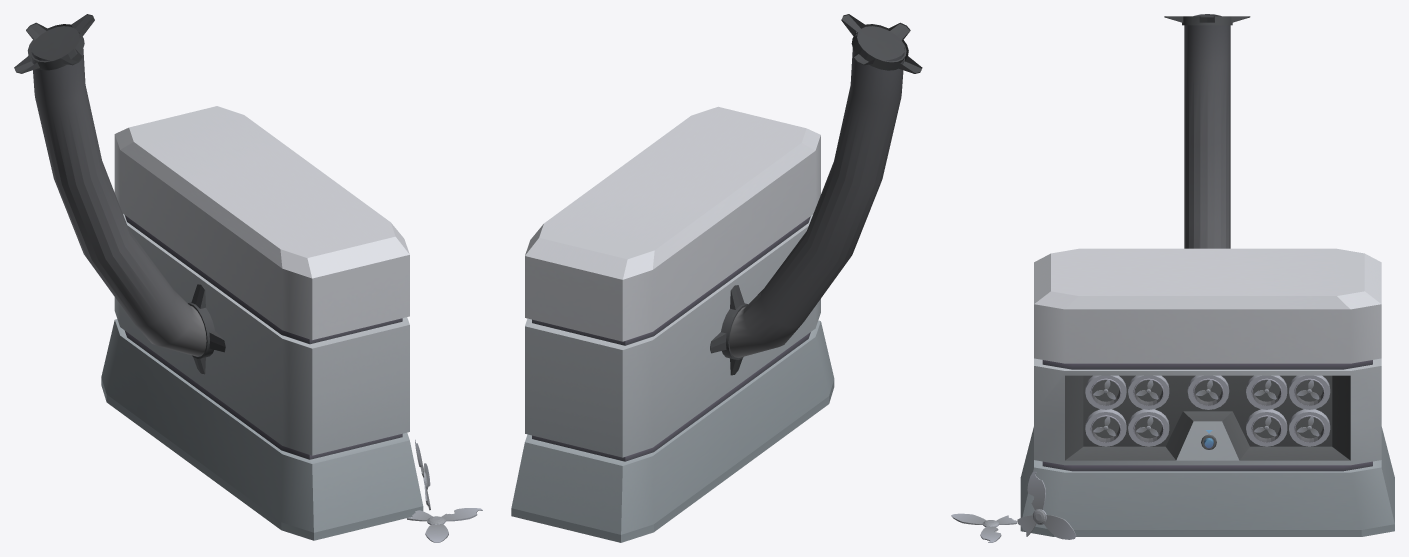
Rendered from Air Filtration.fbx.
3 renders of one model, left to right at view 1: azimuth 30°, elevation 25°; view 2: azimuth 150°, elevation 25°; view 3: azimuth 270°, elevation 25°, orthographic. The views are drawn at different scales.
Parts seen in each view (by area): view 1: Model; view 2: Model; view 3: Model.
Boxes of the visible parts, bbox=[...] form: Model: bbox=[14, 14, 482, 542]; Model: bbox=[511, 14, 922, 542]; Model: bbox=[951, 14, 1394, 542].
Bounding box in the file's own units: 814 × 1083 × 1037.
